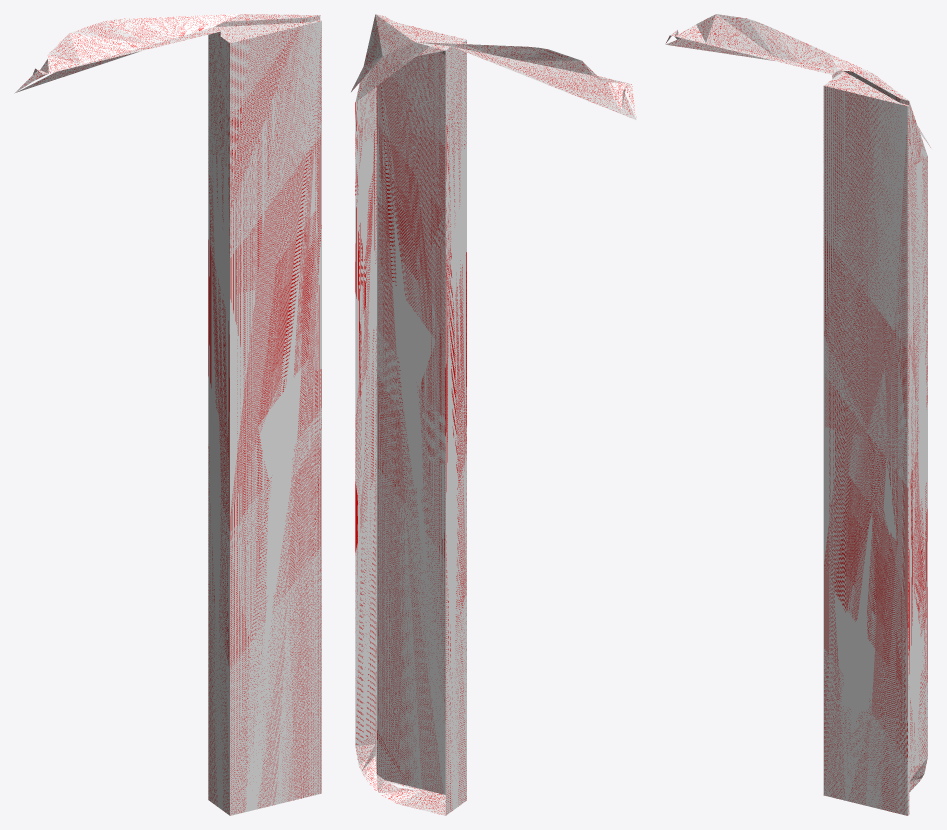
Rendered from original-110.obj.
3 renders of one model, left to right at view 1: azimuth 30°, elevation 25°; view 2: azimuth 150°, elevation 25°; view 3: azimuth 330°, elevation 25°, orthographic. The views are drawn at different scales.
Parts seen in each view (by area): view 1: mesh46/mesh46-geometry/material_0/component_9#mesh46-geometry; view 2: mesh46/mesh46-geometry/material_0/component_9#mesh46-geometry; view 3: mesh46/mesh46-geometry/material_0/component_9#mesh46-geometry.
Part boxes in pixels (<box>): mesh46/mesh46-geometry/material_0/component_9#mesh46-geometry: <box>14,14,321,815</box>; mesh46/mesh46-geometry/material_0/component_9#mesh46-geometry: <box>351,14,636,815</box>; mesh46/mesh46-geometry/material_0/component_9#mesh46-geometry: <box>665,14,931,815</box>.
Size of the model in its own units: 0.2618 by 0.6907 by 0.0339.
